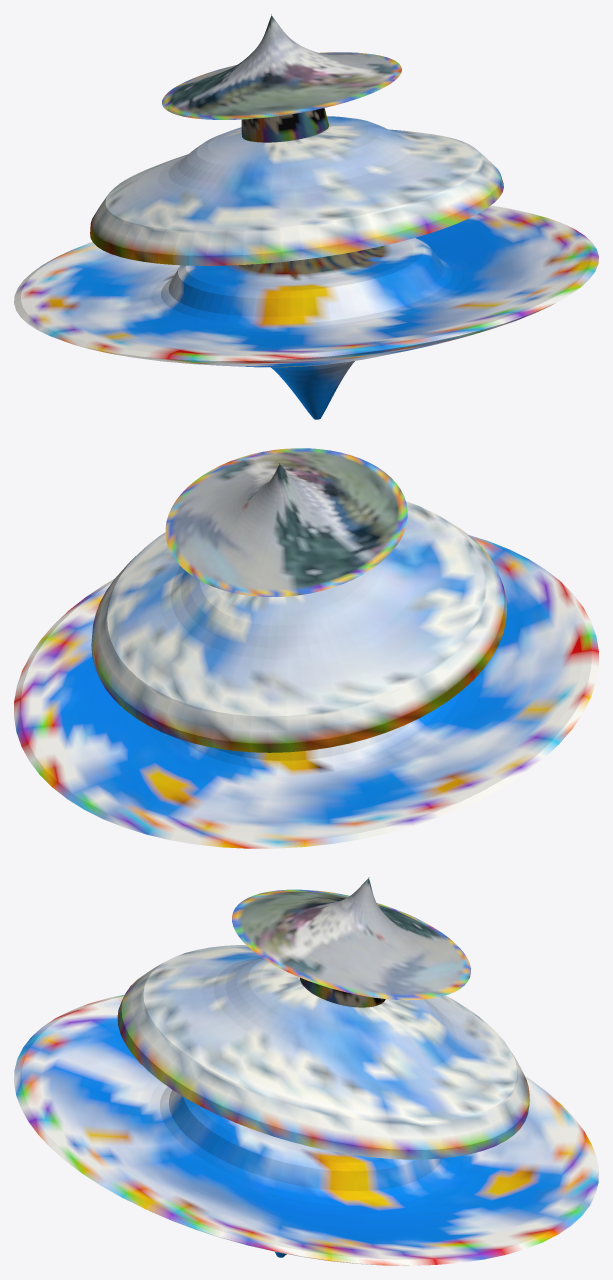
Rendered from trythisshitagain.glb.
3 views of the same model, one above another, from view 1: azimuth 30°, elevation 25°; view 2: azimuth 150°, elevation 25°; view 3: azimuth 270°, elevation 25° (orthographic).
Parts seen in each view (by area): view 1: Lathe 4, Lathe 3, Lathe, Lathe.001; view 2: Lathe 4, Lathe 3, Lathe; view 3: Lathe 4, Lathe 3, Lathe, Lathe.001.
Part boxes in pixels (box(x1,y1,x2,y2)): Lathe 4: box(14, 205, 598, 419); Lathe 3: box(90, 116, 503, 265); Lathe: box(162, 14, 401, 119); Lathe.001: box(241, 108, 328, 142); Lathe 4: box(14, 535, 598, 848); Lathe 3: box(91, 501, 507, 752); Lathe: box(165, 448, 407, 596); Lathe 4: box(14, 994, 598, 1265); Lathe 3: box(117, 945, 529, 1159); Lathe: box(232, 877, 470, 1000); Lathe.001: box(300, 977, 385, 1007).
Bounding box in the file's own units: 2.55 × 1.79 × 2.51.
